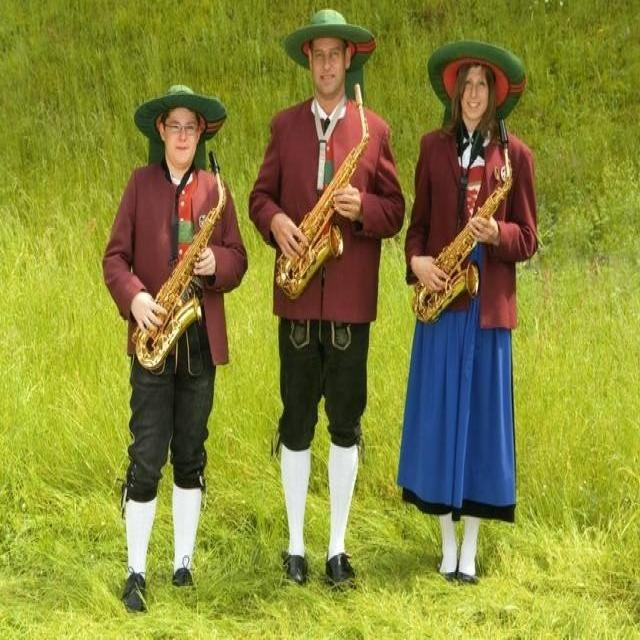saxophone: (410, 120, 515, 327), (134, 150, 230, 373), (275, 84, 372, 300)
